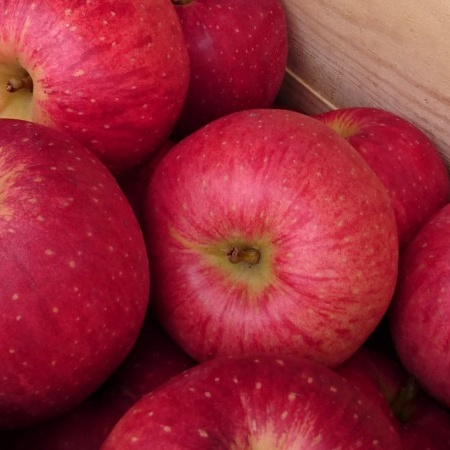apple: (140, 108, 399, 362), (1, 113, 146, 423), (1, 1, 191, 161), (100, 361, 406, 450), (309, 101, 450, 232), (182, 1, 293, 117), (393, 204, 450, 415)
